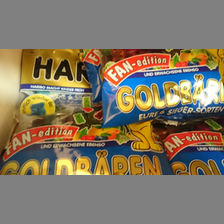candy: (101, 50, 224, 129), (6, 114, 166, 174)
